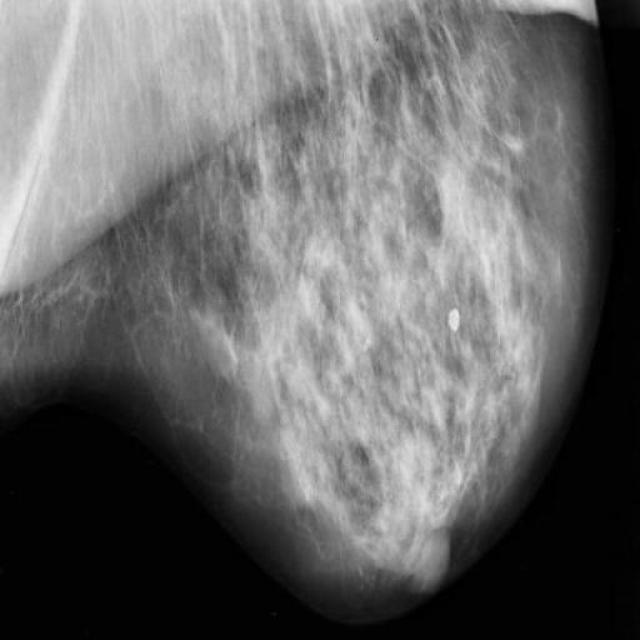cancer: (310, 314, 370, 408)
